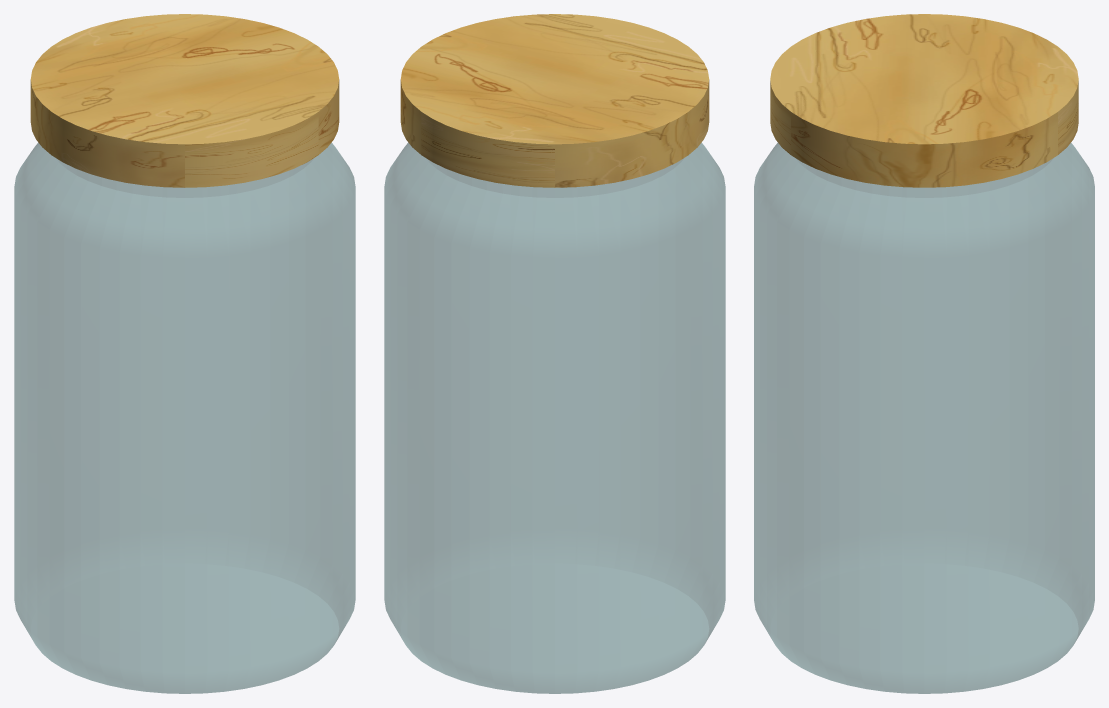
The model's file is jar1.fbx.
3 renders of one model, left to right at view 1: azimuth 30°, elevation 25°; view 2: azimuth 150°, elevation 25°; view 3: azimuth 270°, elevation 25°, orthographic.
Parts seen in each view (by area): view 1: pCylinder21; view 2: pCylinder21; view 3: pCylinder21.
Part boxes in pixels (x1,y1,x2,y2): pCylinder21: [14, 14, 355, 693]; pCylinder21: [384, 14, 725, 693]; pCylinder21: [754, 14, 1094, 693].
Bounding box in the file's own units: 1.35 × 2.39 × 1.34.
2 materials, 1 textured.
